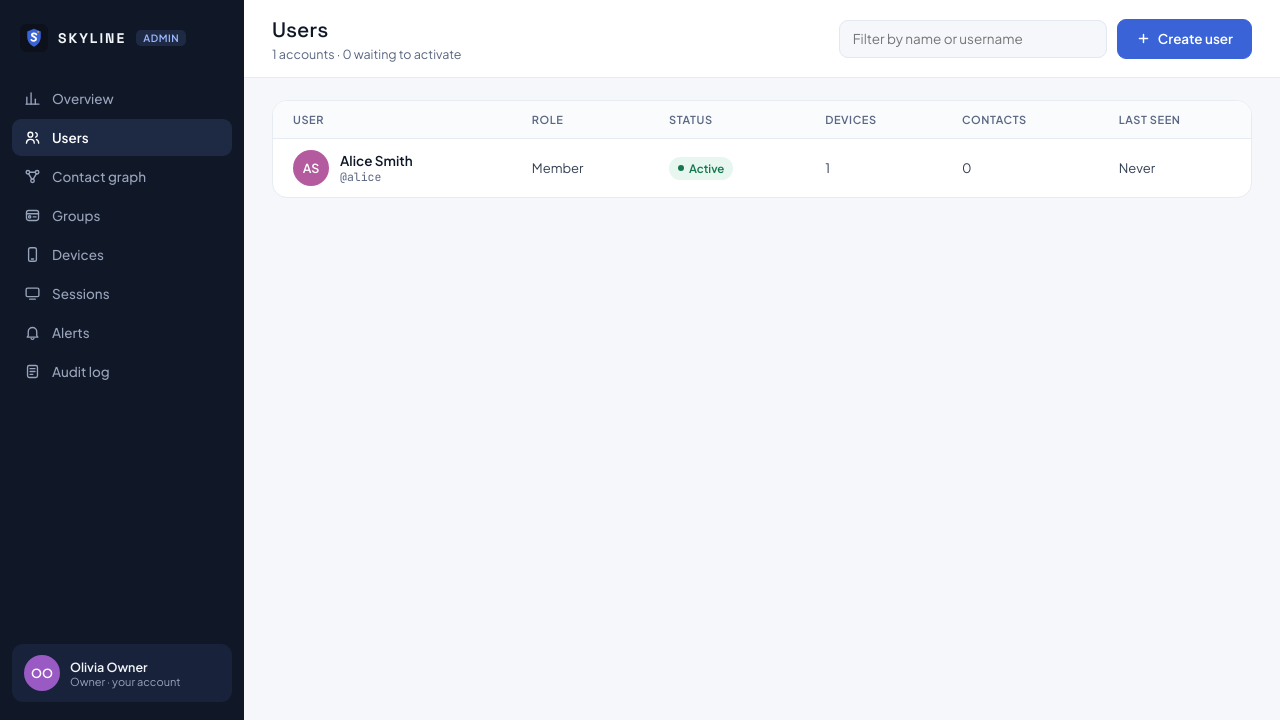
Test: creating a user › suggests a username, sends the initial contacts, and shows the code once
This screenshot has width=1280, height=720.
Click the button "Create user" at (1184, 38), box [1117, 18, 1252, 58]
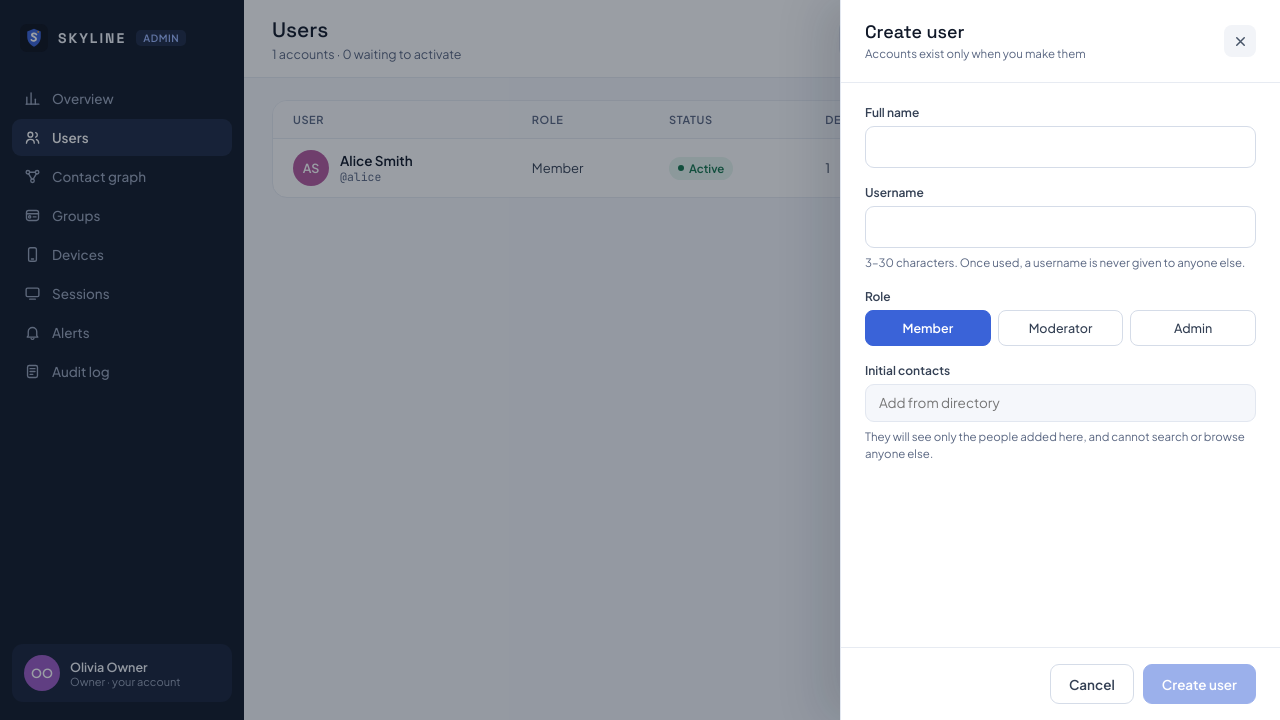
Type "Zoë Brown" into the field labelled "Full name" at (1060, 147), box [865, 126, 1256, 168]
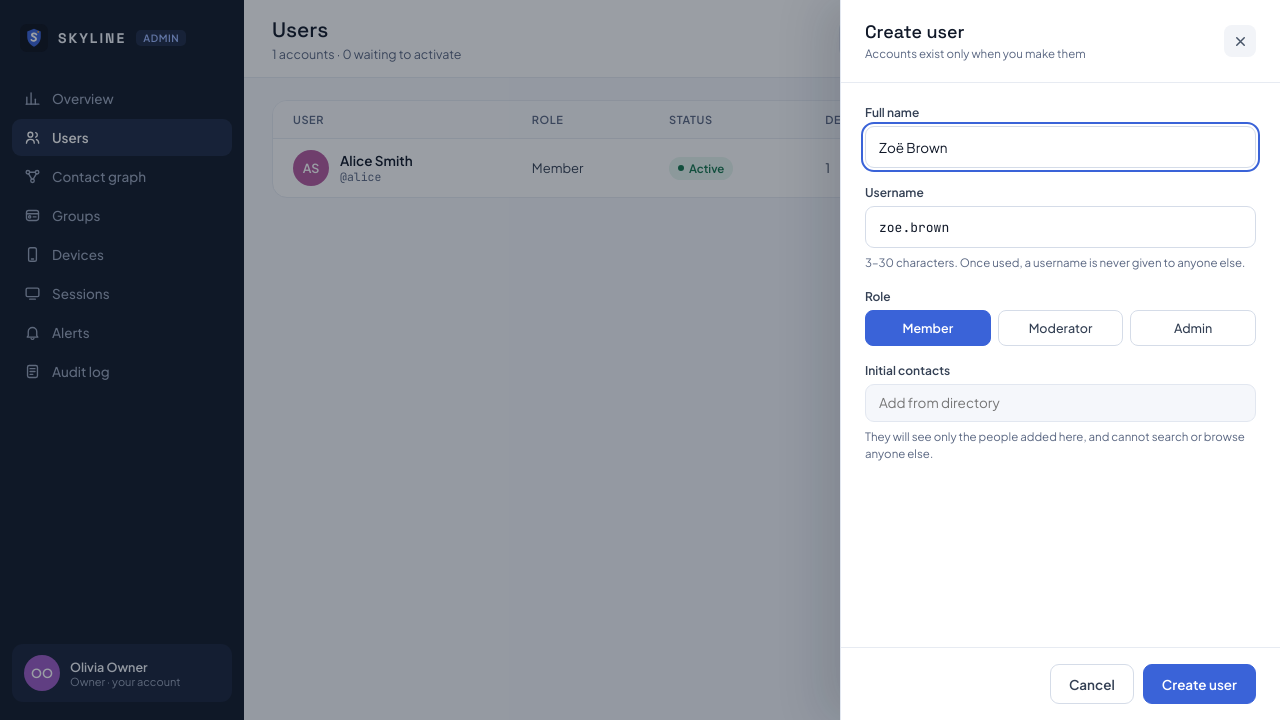
Now the field labelled "Username" holds "zoe.brown", box [865, 206, 1256, 248]
Type "ali" into the field labelled "Initial contacts" at (1060, 402), box [865, 384, 1256, 422]
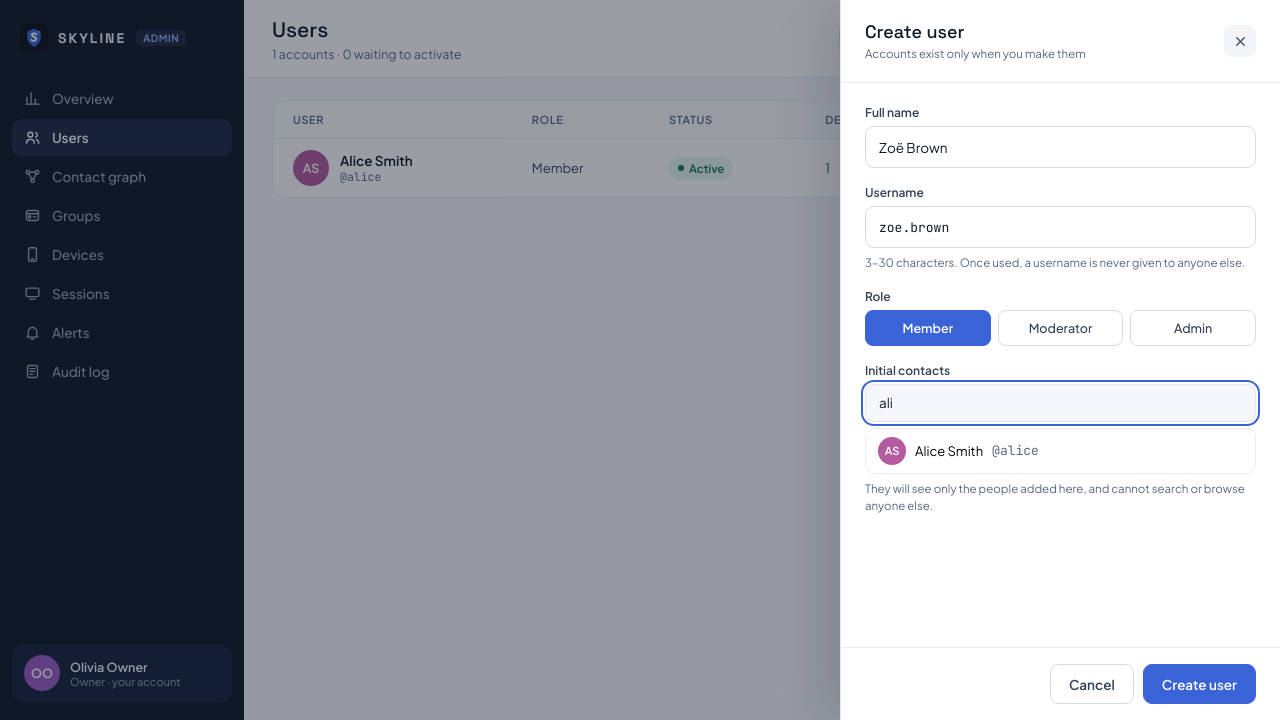
Click the button "AS Alice Smith @alice" at (949, 450), box [866, 428, 1255, 472]
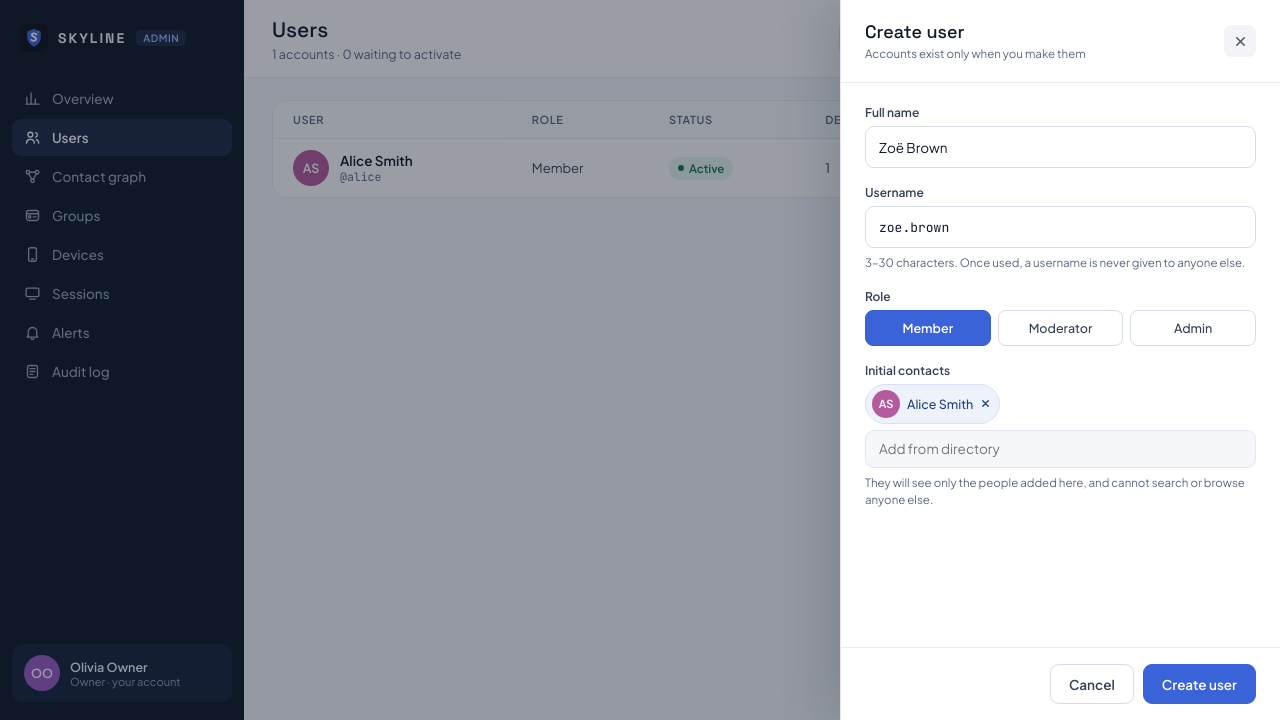
Click the button "Create user" at (1199, 684), box [1143, 664, 1256, 704]
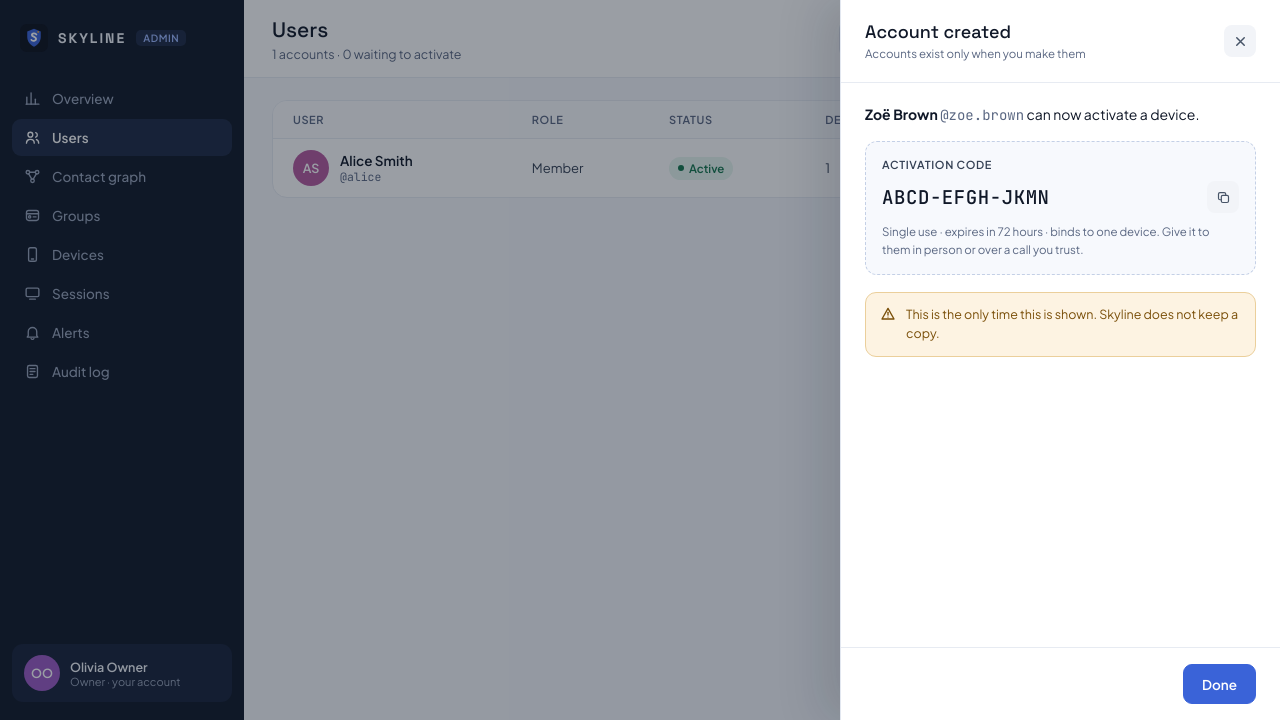
Now the text with test id "secret-value" reads "ABCD-EFGH-JKMN", box [882, 185, 1050, 210]
